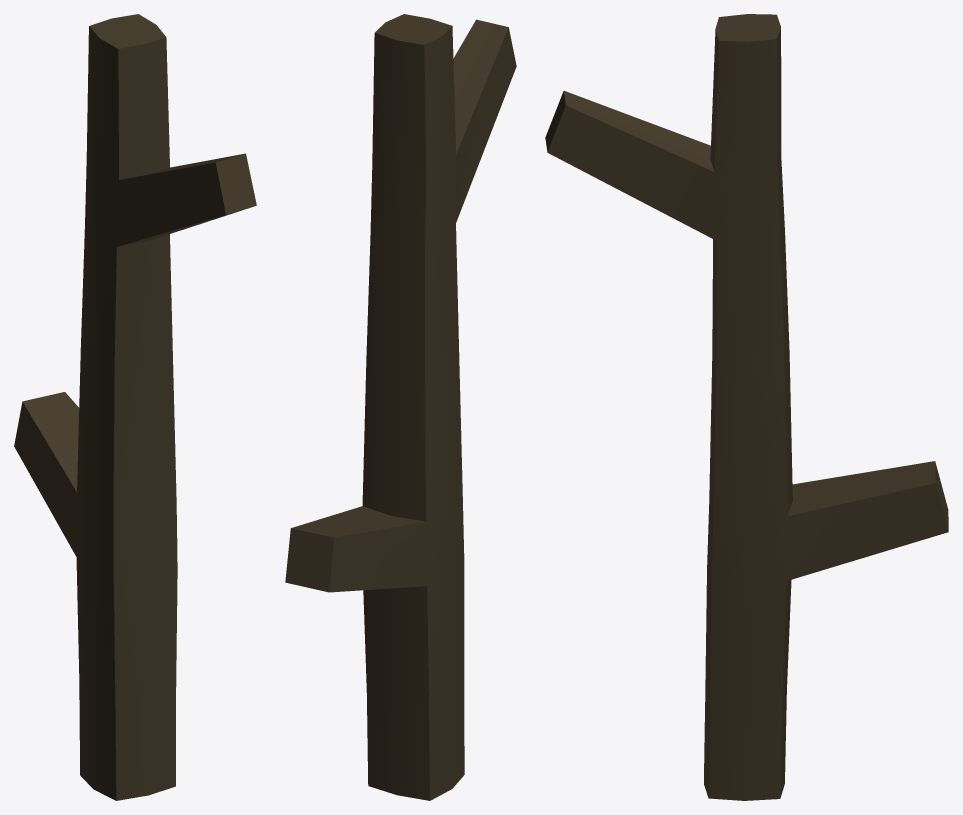
File: branch.glb
3 views of the same model, side by side, from view 1: azimuth 30°, elevation 25°; view 2: azimuth 150°, elevation 25°; view 3: azimuth 270°, elevation 25° (orthographic).
Visible parts, largest first — view 1: Cube; view 2: Cube; view 3: Cube.
Boxes of the visible parts, x1,y1,x2,y2 form: Cube: (14,14,256,800); Cube: (285,14,516,800); Cube: (545,14,948,800).
Size of the model in its own units: 0.319 by 3.09 by 1.49.
1 material, 1 textured.
